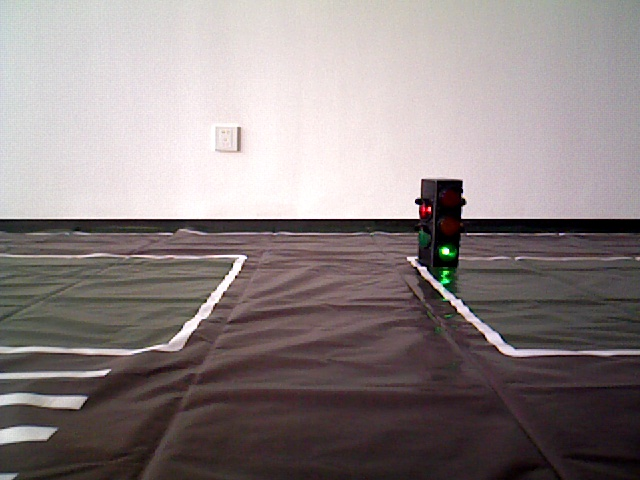green: (420, 180, 457, 261)
